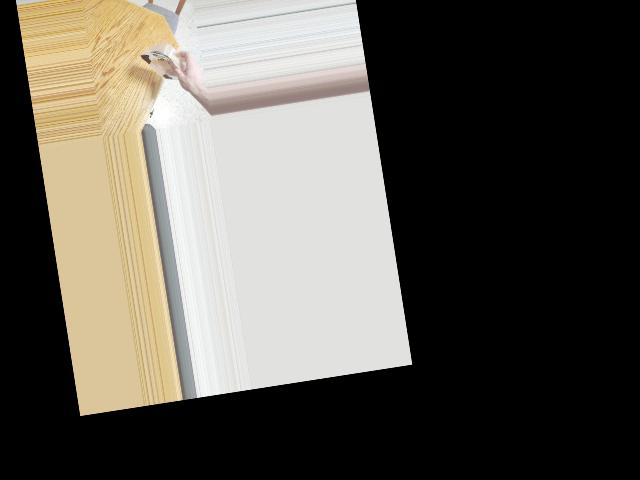cheese: (138, 33, 187, 96)
